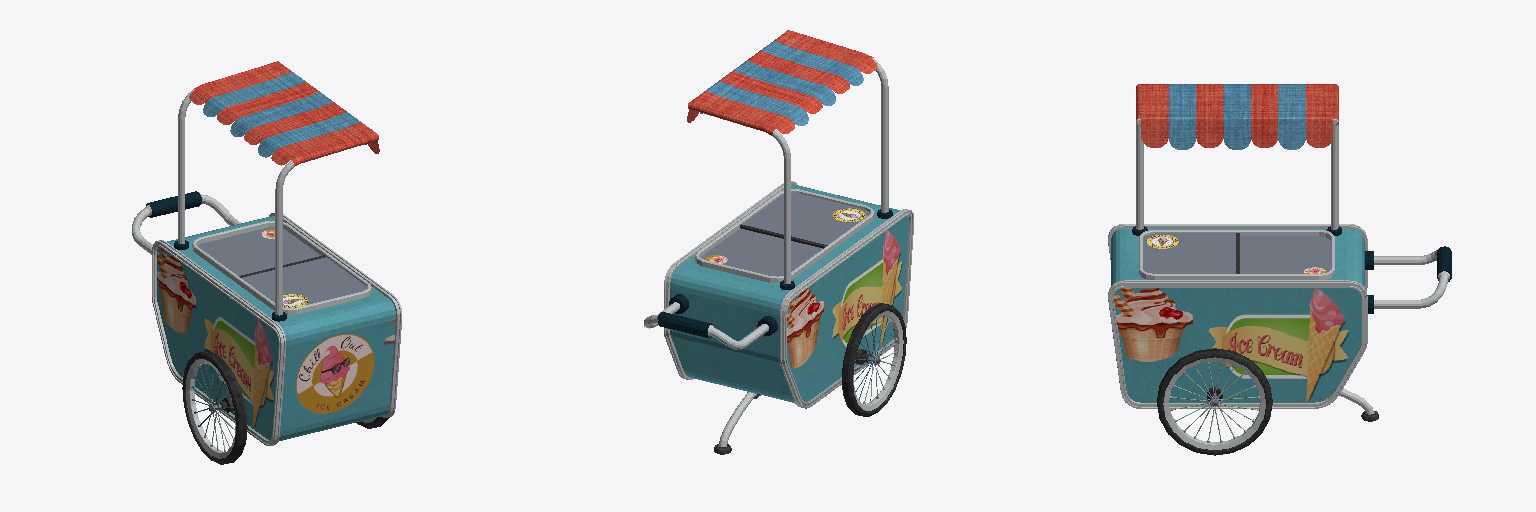
The picture shows the model from 3 angles: view 1: azimuth 30°, elevation 25°; view 2: azimuth 150°, elevation 25°; view 3: azimuth 270°, elevation 25°; orthographic projection.
Visible parts, largest first — view 1: cara_ic_01; view 2: cara_ic_01; view 3: cara_ic_01.
Boxes of the visible parts, box(x1,y1,x2,y2) form: cara_ic_01: box(132, 61, 401, 464); cara_ic_01: box(644, 30, 913, 454); cara_ic_01: box(1108, 84, 1451, 455).
Bounding box in the file's own units: 37.5 × 73.81 × 70.65.
Materials: 1 (1 with a texture image).